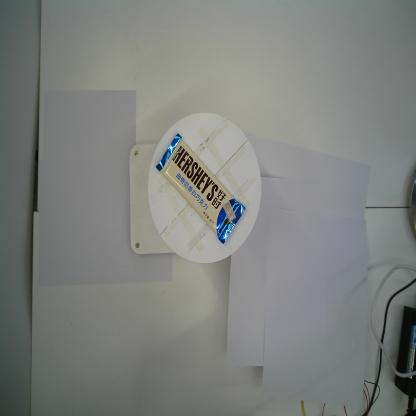Chocolate: (155, 132, 246, 245)
